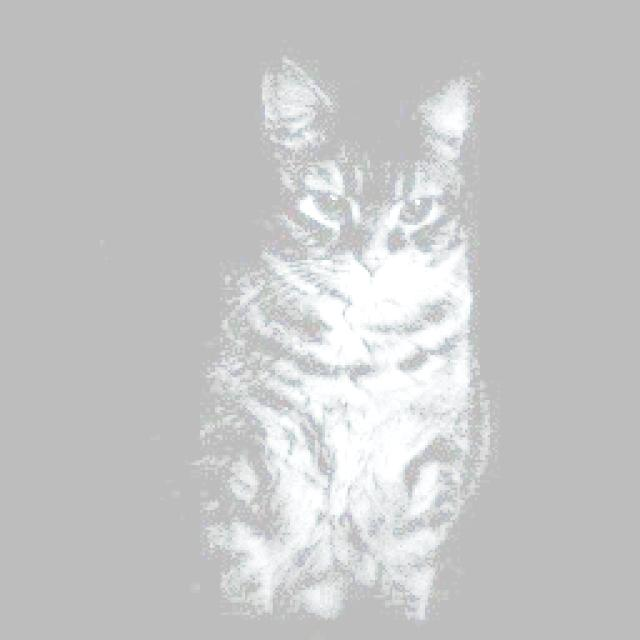cat: (210, 50, 482, 640)
